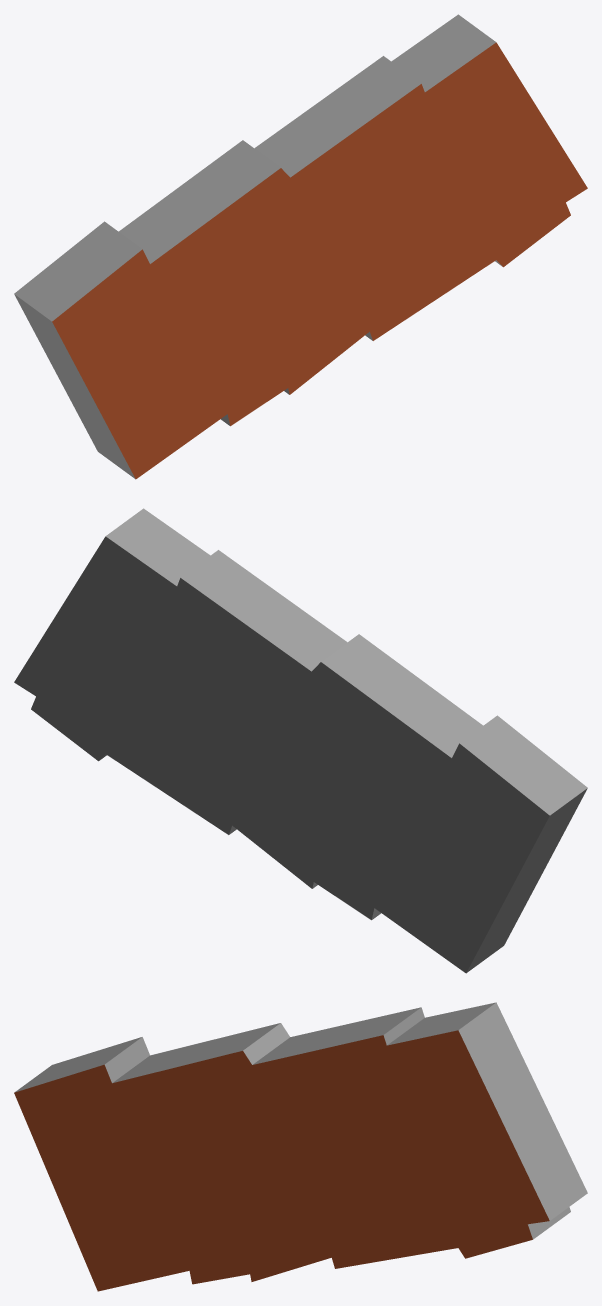
File: construction_3012_assumed_A_Casa_h6m.obj
3 renders of one model, top to bottom at view 1: azimuth 30°, elevation 25°; view 2: azimuth 150°, elevation 25°; view 3: azimuth 330°, elevation 25°, orthographic.
Visible parts, largest first — view 1: construction_3012_assumed_A_Casa; view 2: construction_3012_assumed_A_Casa; view 3: construction_3012_assumed_A_Casa.
Boxes of the visible parts, x1=… form: construction_3012_assumed_A_Casa: x1=14, y1=14, x2=587, y2=479; construction_3012_assumed_A_Casa: x1=14, y1=508, x2=587, y2=973; construction_3012_assumed_A_Casa: x1=14, y1=1002, x2=587, y2=1291.
Bounding box in the file's own units: 48.75 × 30.36 × 6.
